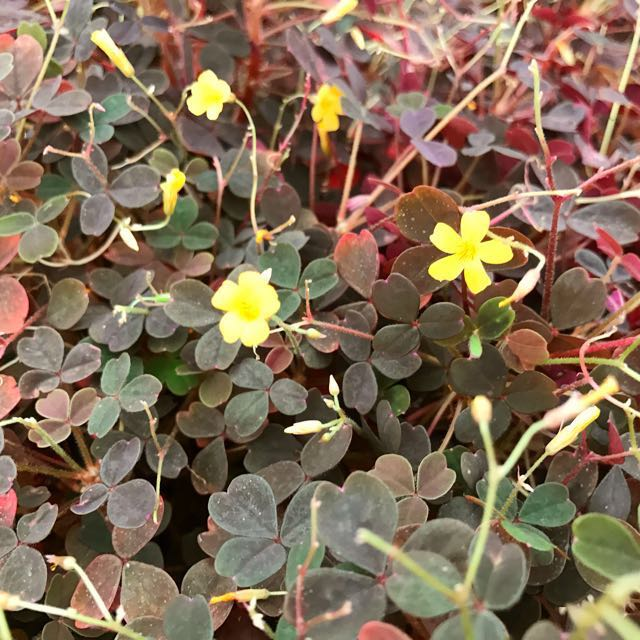oxalis: (14, 31, 607, 639)
